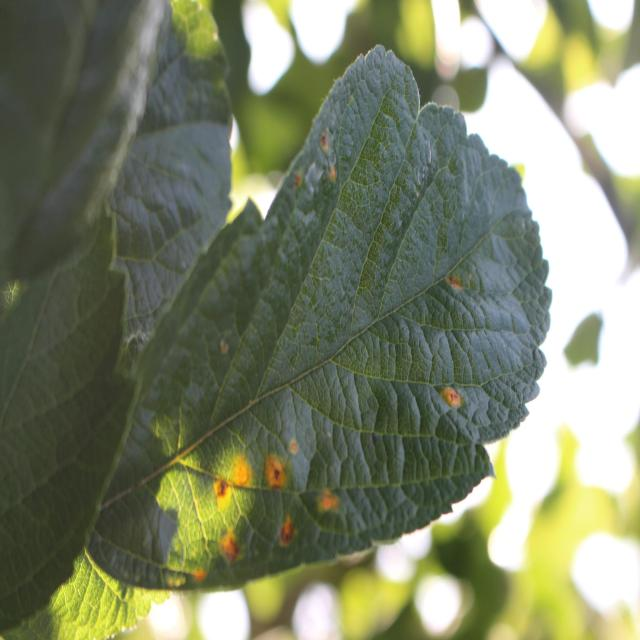Rust: (228, 436, 260, 488), (434, 375, 469, 421), (313, 481, 345, 525), (275, 511, 302, 561), (444, 257, 475, 300), (208, 464, 234, 510), (264, 450, 286, 501), (217, 532, 243, 572), (187, 550, 207, 588), (288, 431, 306, 473), (312, 126, 334, 156), (292, 167, 306, 196), (324, 168, 342, 189)
